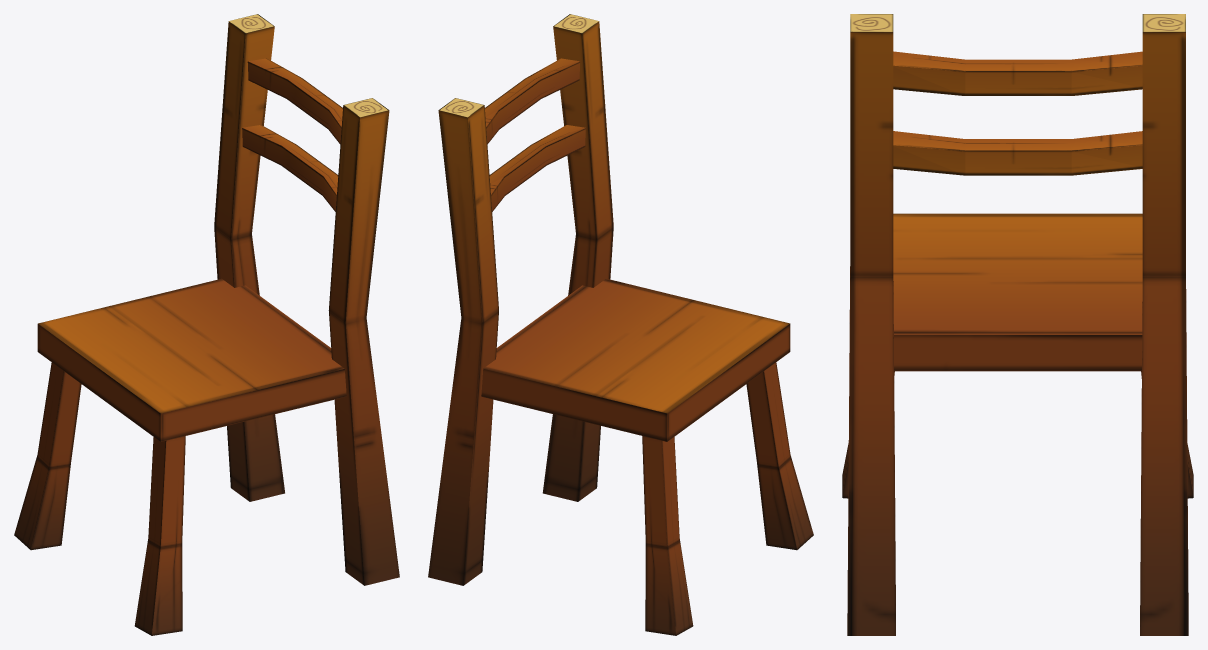
File: Chair.FBX
The picture shows the model from 3 angles, left to right: view 1: azimuth 30°, elevation 25°; view 2: azimuth 150°, elevation 25°; view 3: azimuth 270°, elevation 25°; orthographic projection. The views are drawn at different scales.
Visible parts, largest first — view 1: Box004; view 2: Box004; view 3: Box004.
Part boxes in pixels (box(x1,y1,x2,y2)): Box004: box(14, 14, 399, 635); Box004: box(428, 14, 813, 635); Box004: box(842, 14, 1193, 635).
Size of the model in its own units: 149 by 268 by 142.
